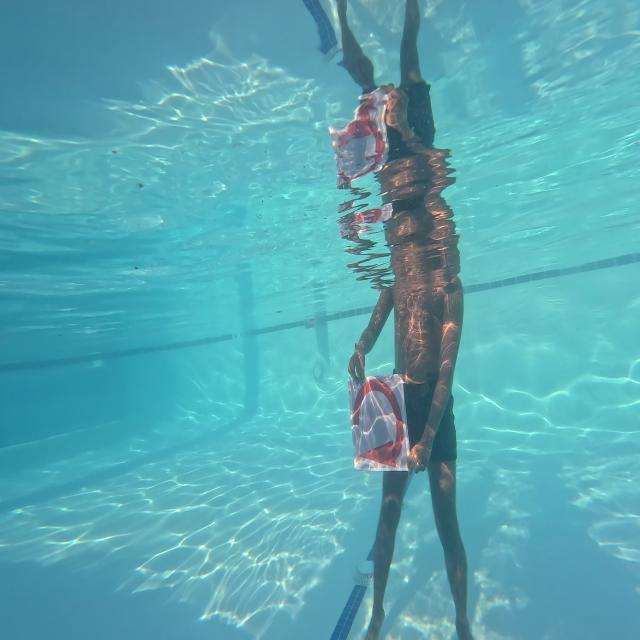red_side: (344, 376, 413, 478)
